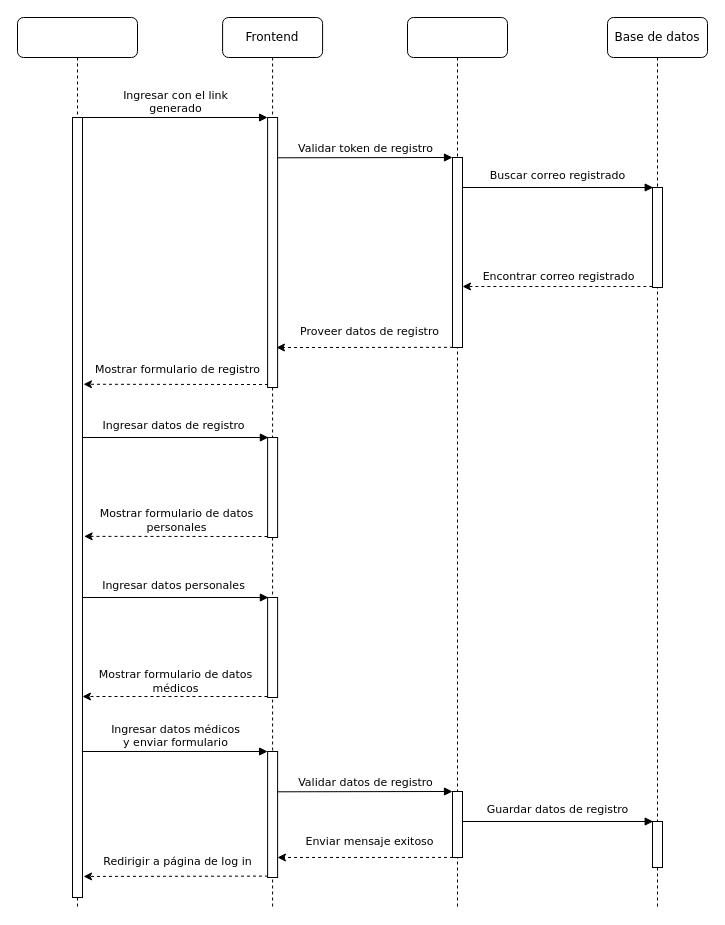
Some shapes in this 725 by 925 pixel diagram are drawn without their labels. The box of each missing label's shape, as (x1, y1, x2, y2) in pixels:
Backend: (406, 16, 508, 908)
Esgrimista: (16, 16, 138, 908)
